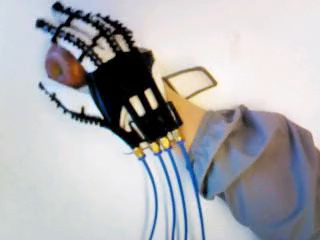apple: (42, 38, 88, 92)
hand: (34, 2, 182, 157)
